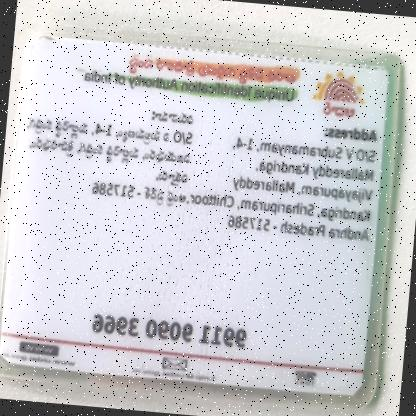aadhaar_card: (0, 25, 401, 402)
